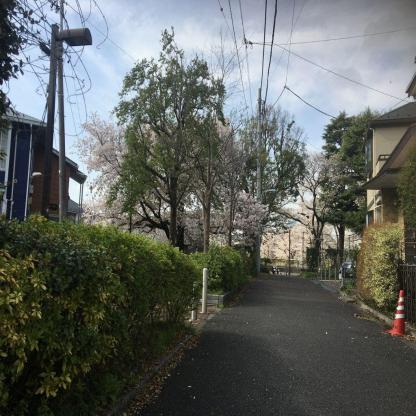Someiyoshino: (71, 104, 271, 252), (259, 146, 350, 266)
